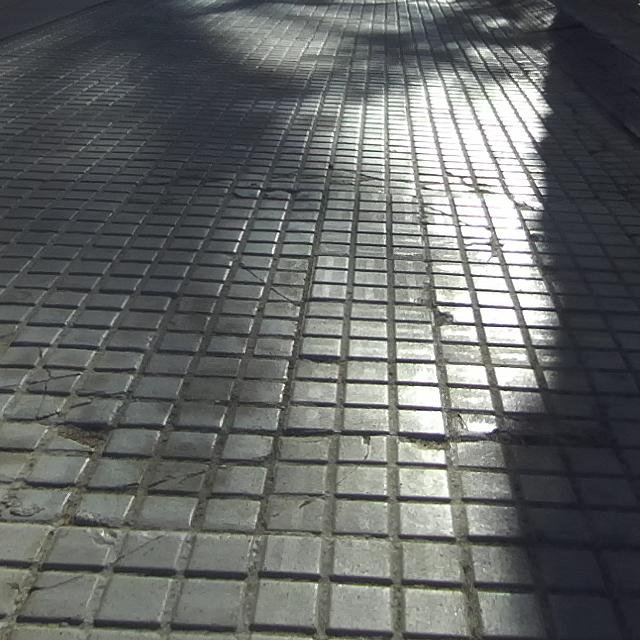calcada_quebrada: (31, 522, 180, 613), (1, 344, 115, 456), (270, 433, 372, 526), (460, 414, 632, 464), (226, 252, 309, 307), (136, 455, 214, 501), (391, 417, 459, 466), (417, 168, 499, 197), (461, 223, 511, 266), (290, 349, 342, 387), (427, 302, 472, 333), (229, 184, 298, 203), (330, 168, 388, 190), (419, 203, 466, 224), (525, 228, 565, 244), (513, 199, 549, 215), (617, 183, 640, 207)
